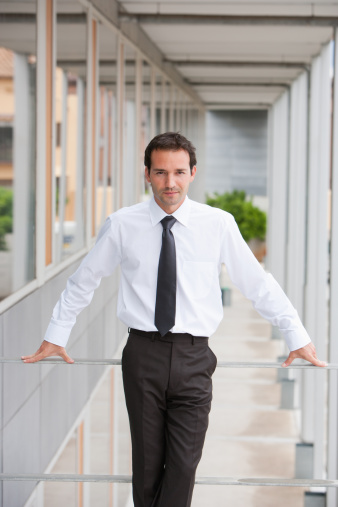em pe: (17, 140, 338, 507)
